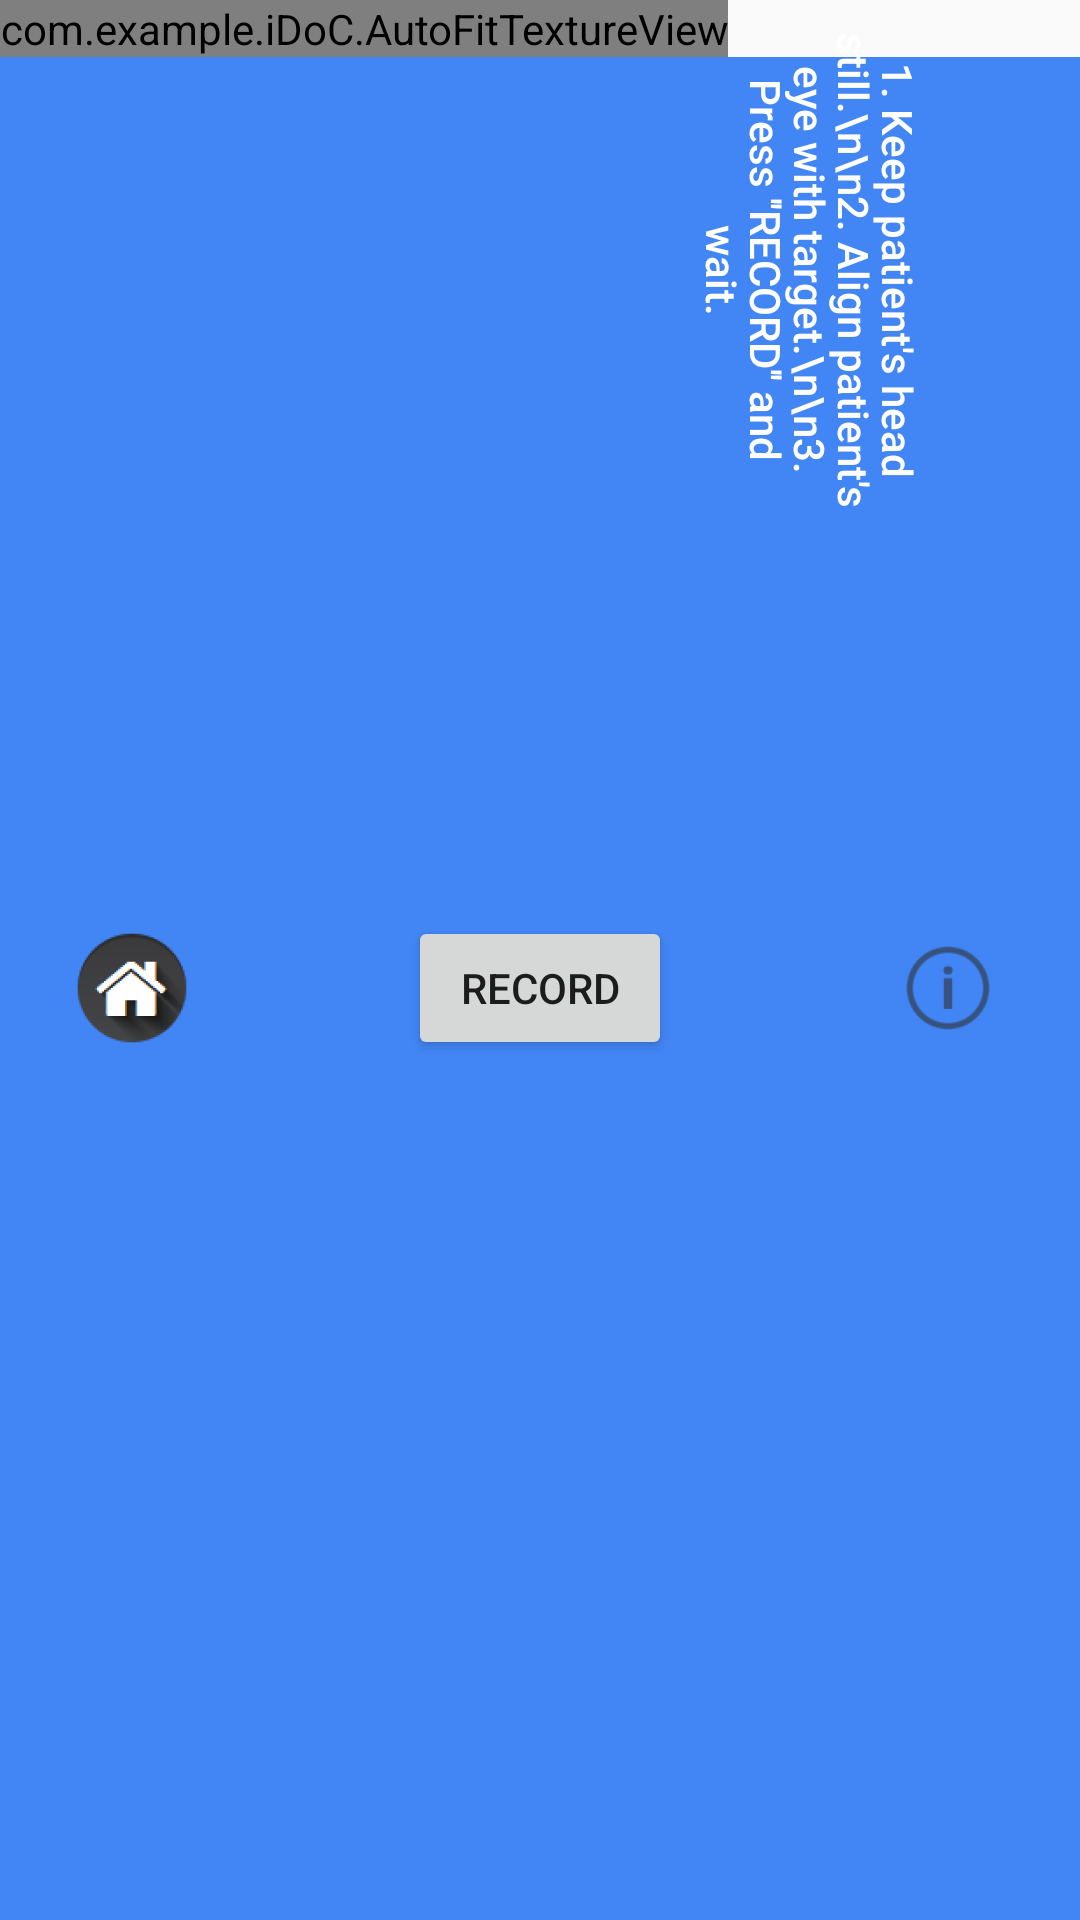

Screen size 1080 × 1920. Icon name, then its center in pixels as (x,y):
home butt: (132,988)
info: (948,988)
